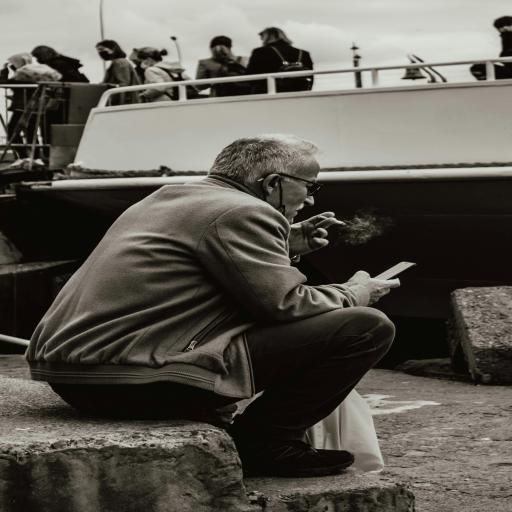terdeteksi pegang rokok: (281, 192, 368, 272), (310, 214, 470, 216)
